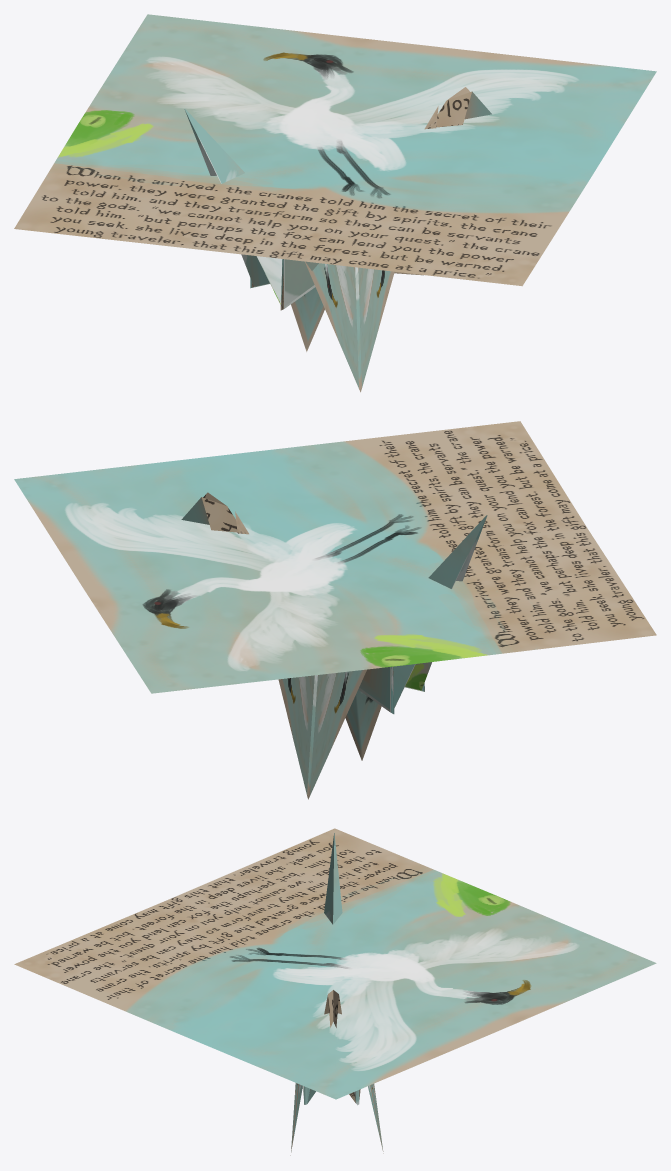
File: Crane_Fold_UV 1.fbx
3 views of the same model, one above another, from view 1: azimuth 30°, elevation 25°; view 2: azimuth 150°, elevation 25°; view 3: azimuth 270°, elevation 25° (orthographic). The views are drawn at different scales.
Parts seen in each view (by area): view 1: Crane_Model_1, Crane_Model_2, Crane_Model_3; view 2: Crane_Model_1, Crane_Model_2, Crane_Model_3; view 3: Crane_Model_1, Crane_Model_3, Crane_Model_2.
Part boxes in pixels (x1=…): Crane_Model_1: x1=14, y1=14, x2=656, y2=286; Crane_Model_2: x1=184, y1=106, x2=438, y2=392; Crane_Model_3: x1=185, y1=87, x2=491, y2=309; Crane_Model_1: x1=14, y1=421, x2=656, y2=693; Crane_Model_2: x1=235, y1=511, x2=487, y2=799; Crane_Model_3: x1=181, y1=492, x2=486, y2=713; Crane_Model_1: x1=14, y1=828, x2=656, y2=1099; Crane_Model_3: x1=302, y1=833, x2=360, y2=1105; Crane_Model_2: x1=290, y1=1083, x2=383, y2=1155.
Bounding box in the file's own units: 6.97 × 3.13 × 6.99.
Materials: 1 (1 with a texture image).
